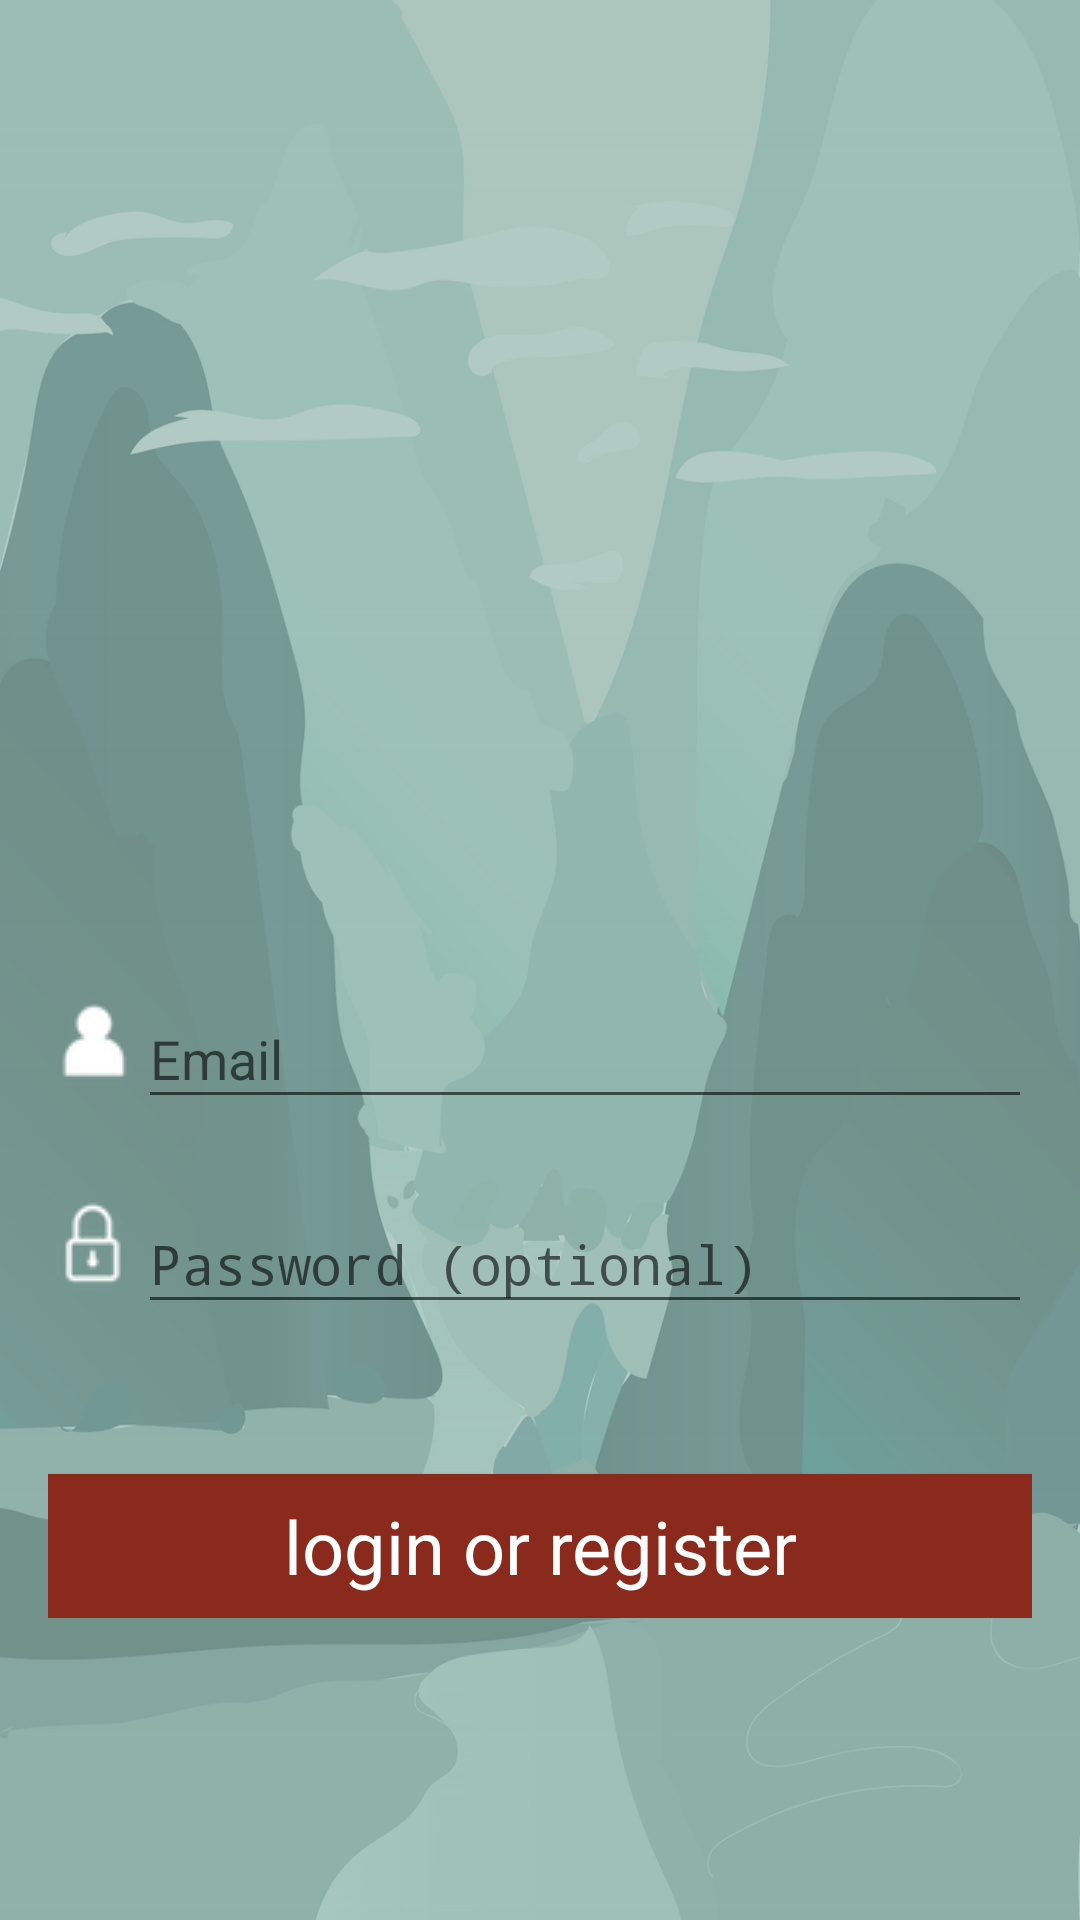

Screen size 1080 x 1920. Icon name, then its box in pixels as (x1, y1, x2, y2):
user: (63, 1005, 125, 1077)
